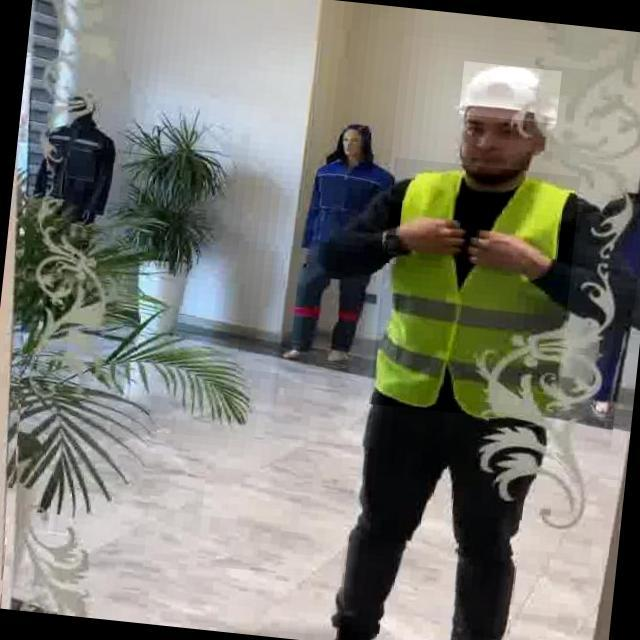Helmet: (459, 61, 562, 125)
Safety Vest: (369, 158, 582, 424)
